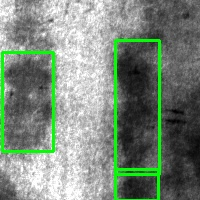patches: (115, 40, 159, 174), (2, 52, 53, 151), (115, 169, 158, 200)
